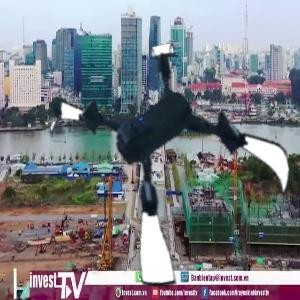drone: (53, 47, 293, 287)
